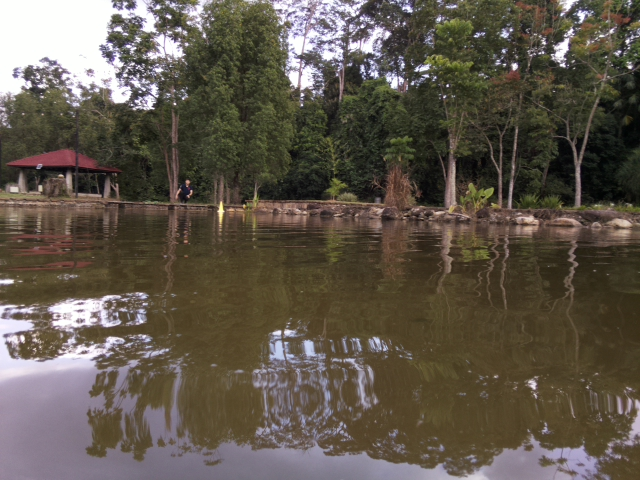checkpoint: (216, 200, 226, 214)
